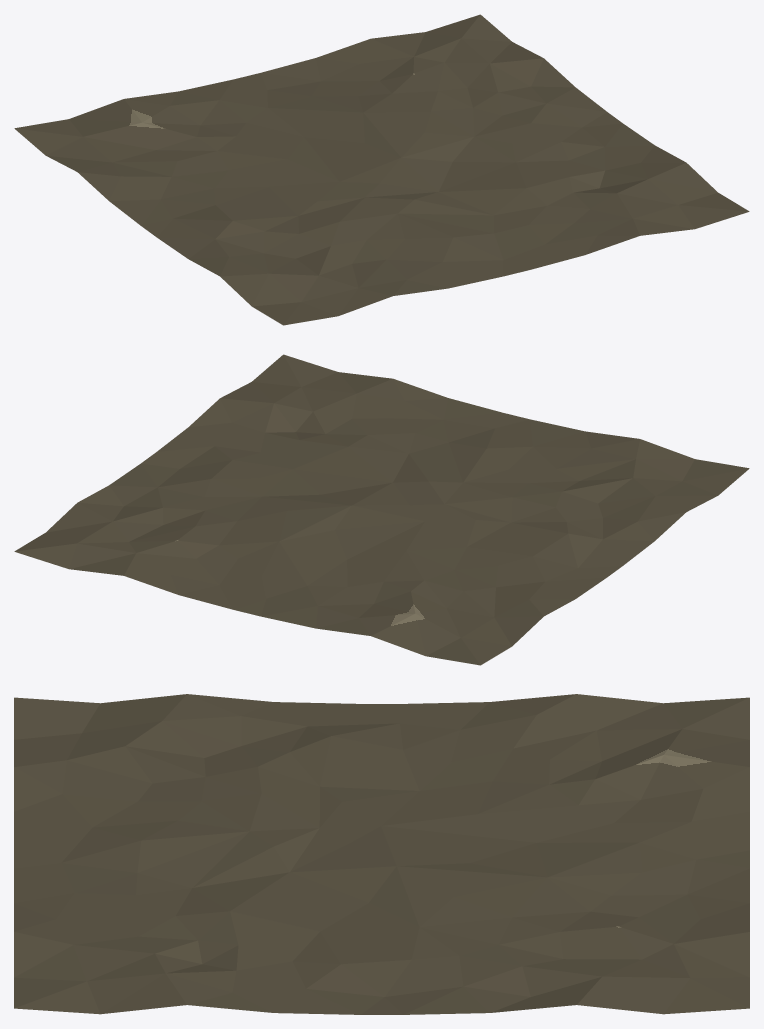
The model's file is Water_03.fbx.
3 renders of one model, top to bottom at view 1: azimuth 30°, elevation 25°; view 2: azimuth 150°, elevation 25°; view 3: azimuth 270°, elevation 25°, orthographic. The views are drawn at different scales.
Parts seen in each view (by area): view 1: Water_03; view 2: Water_03; view 3: Water_03.
Boxes of the visible parts, <box> form: Water_03: <box>14,14,749,325</box>; Water_03: <box>14,354,749,665</box>; Water_03: <box>14,694,749,1014</box>.
Bounding box in the file's own units: 100 × 2.56 × 100.
Materials: 1 (1 with a texture image).
